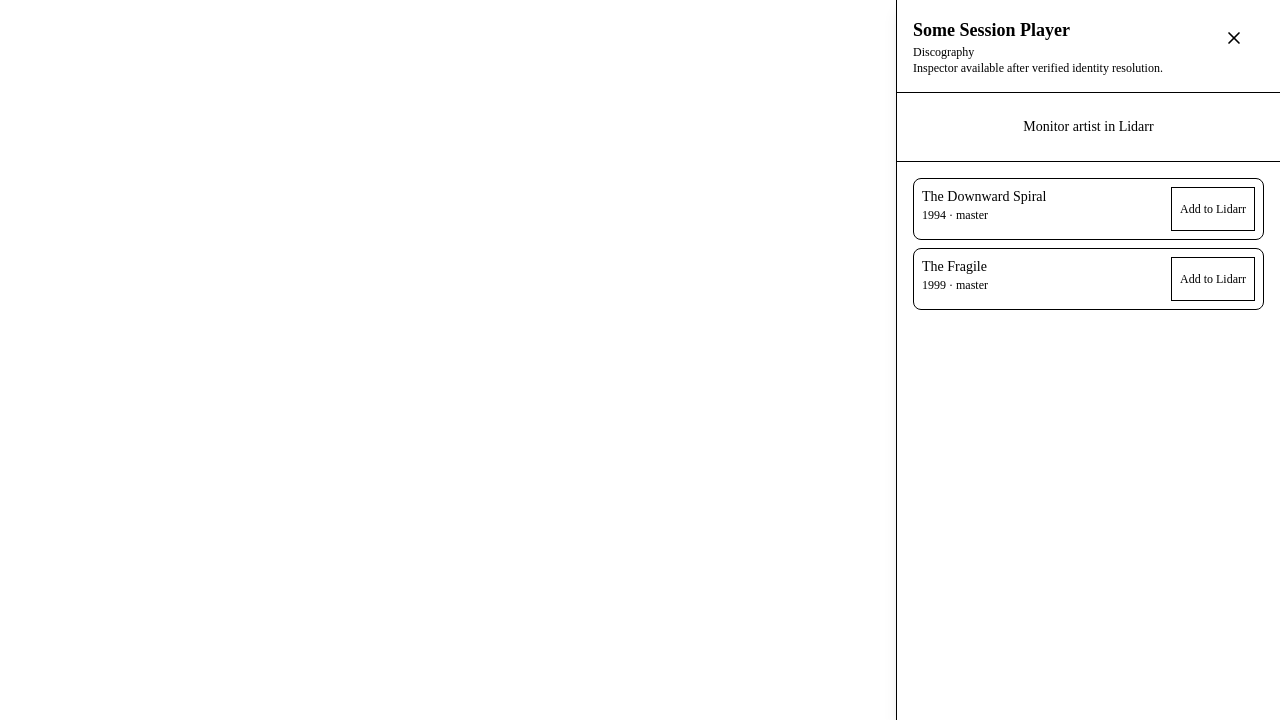
Scenario: PersonPanel › shows the honest needsManual message (not a generic error) on a 409
Check: the text "The Downward Spiral" is shown, box [922, 187, 1046, 207]
Click the button "Monitor artist in Lidarr": point(1088, 127) [913, 109, 1264, 145]
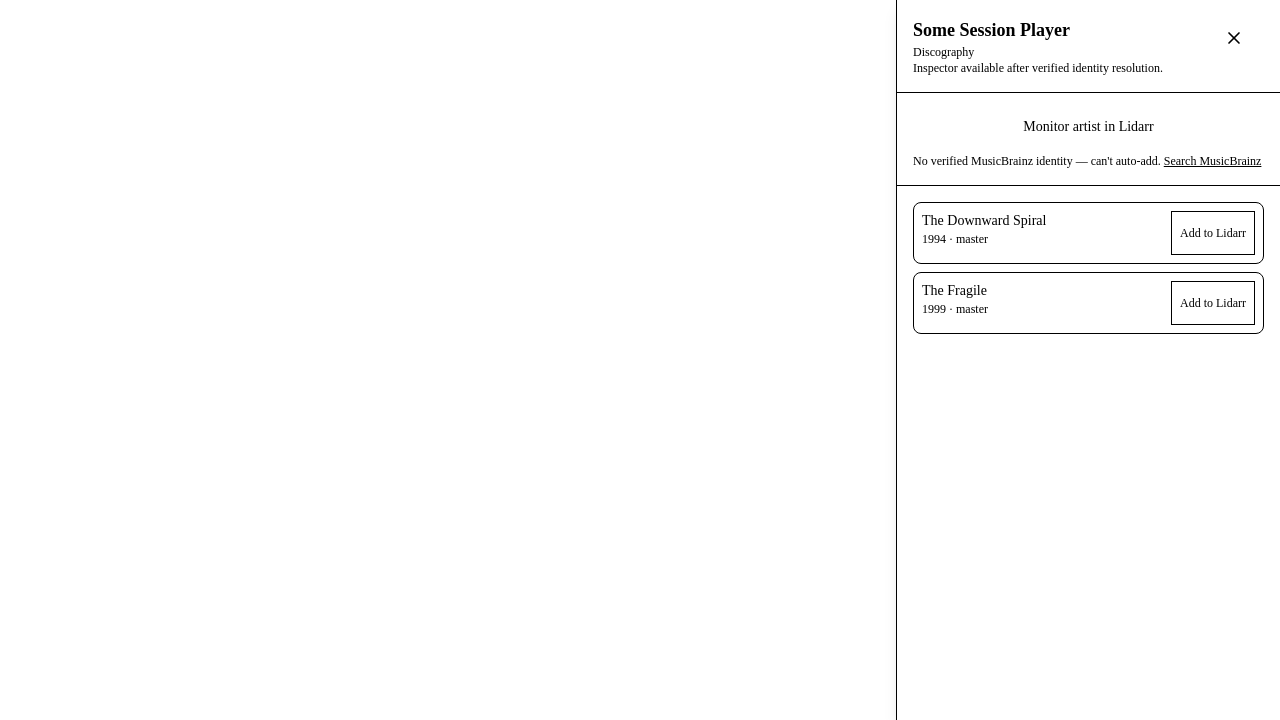
Check: the message with test id "person-panel-needs-manual" shows "No verified MusicBrainz identity", box [913, 154, 1161, 168]
